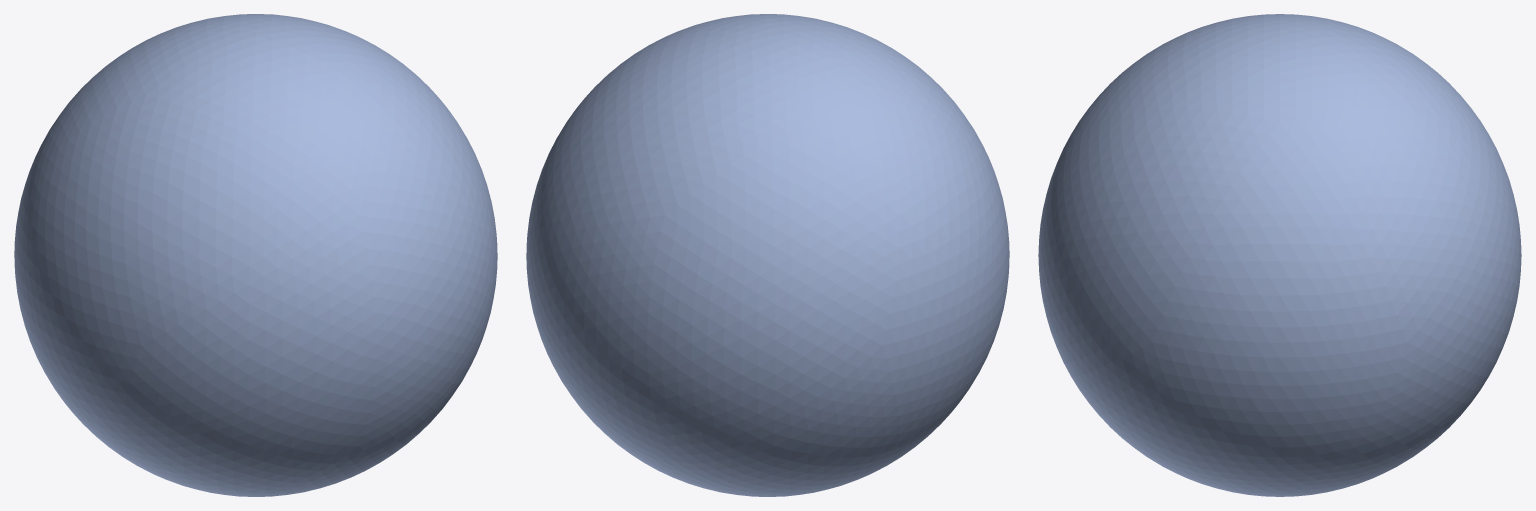
Rendered from BrainStem (3).glb.
3 renders of one model, left to right at view 1: azimuth 30°, elevation 25°; view 2: azimuth 150°, elevation 25°; view 3: azimuth 270°, elevation 25°, orthographic.
Visible parts, largest first — view 1: world; view 2: world; view 3: world.
Part boxes in pixels (bbox=[...]): world: bbox=[14, 14, 497, 496]; world: bbox=[526, 14, 1009, 496]; world: bbox=[1038, 14, 1521, 496].
Bounding box in the file's own units: 1.6 × 1.6 × 1.6.
